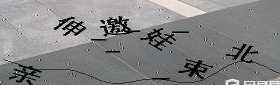chinese: (97, 12, 135, 40), (225, 38, 260, 66), (53, 10, 85, 39), (143, 26, 175, 53), (180, 53, 208, 81), (11, 61, 40, 84)
